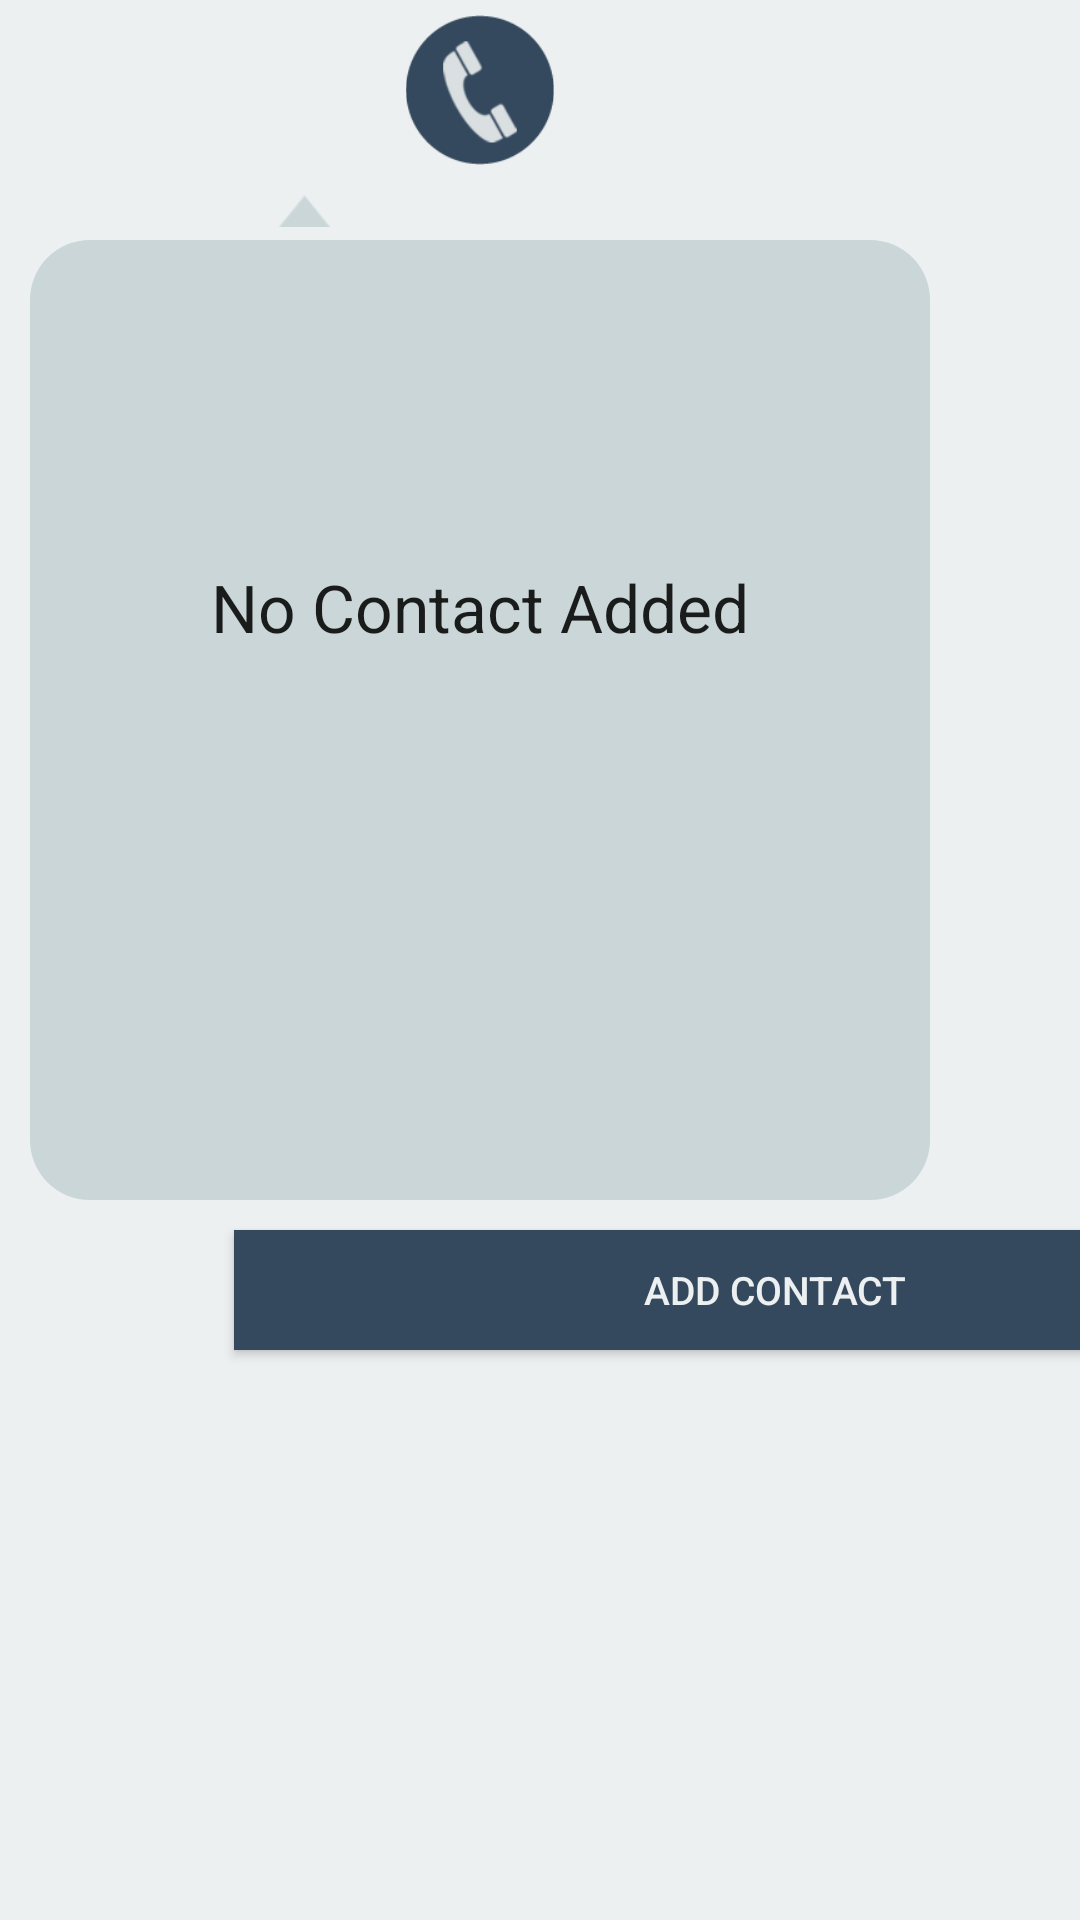

Locate icon controls on the screen. Image size 1080x1920, boxes as (x1, y1, x2, y2).
speeddial: (406, 15, 554, 165)
